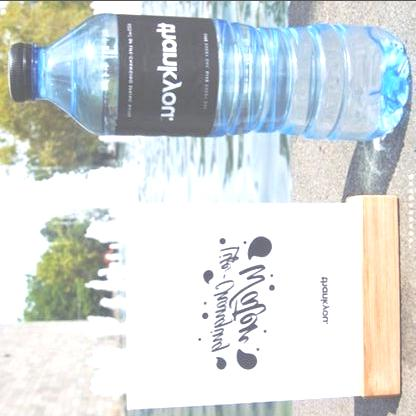bottle: (9, 1, 413, 144)
